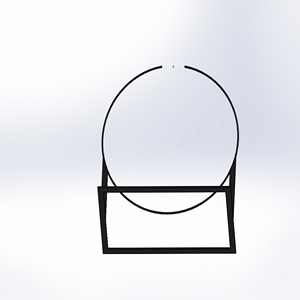circle: (96, 59, 240, 257)
